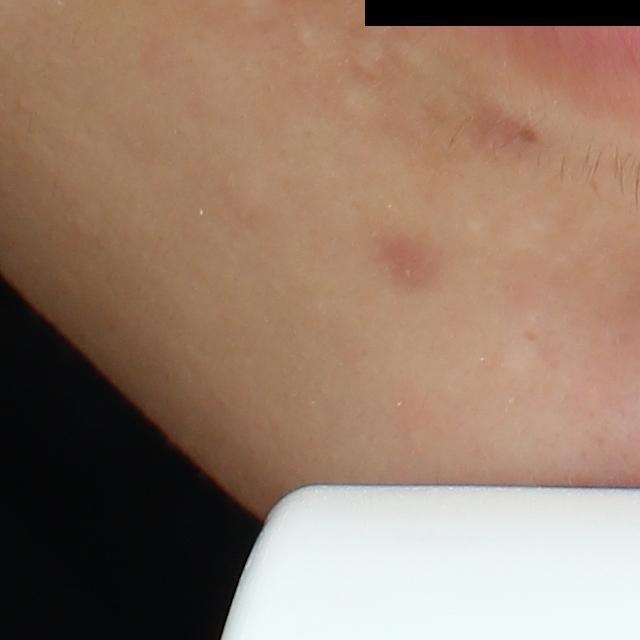hypertrophic_scar: (341, 80, 388, 130), (389, 35, 443, 76), (293, 16, 319, 56)
